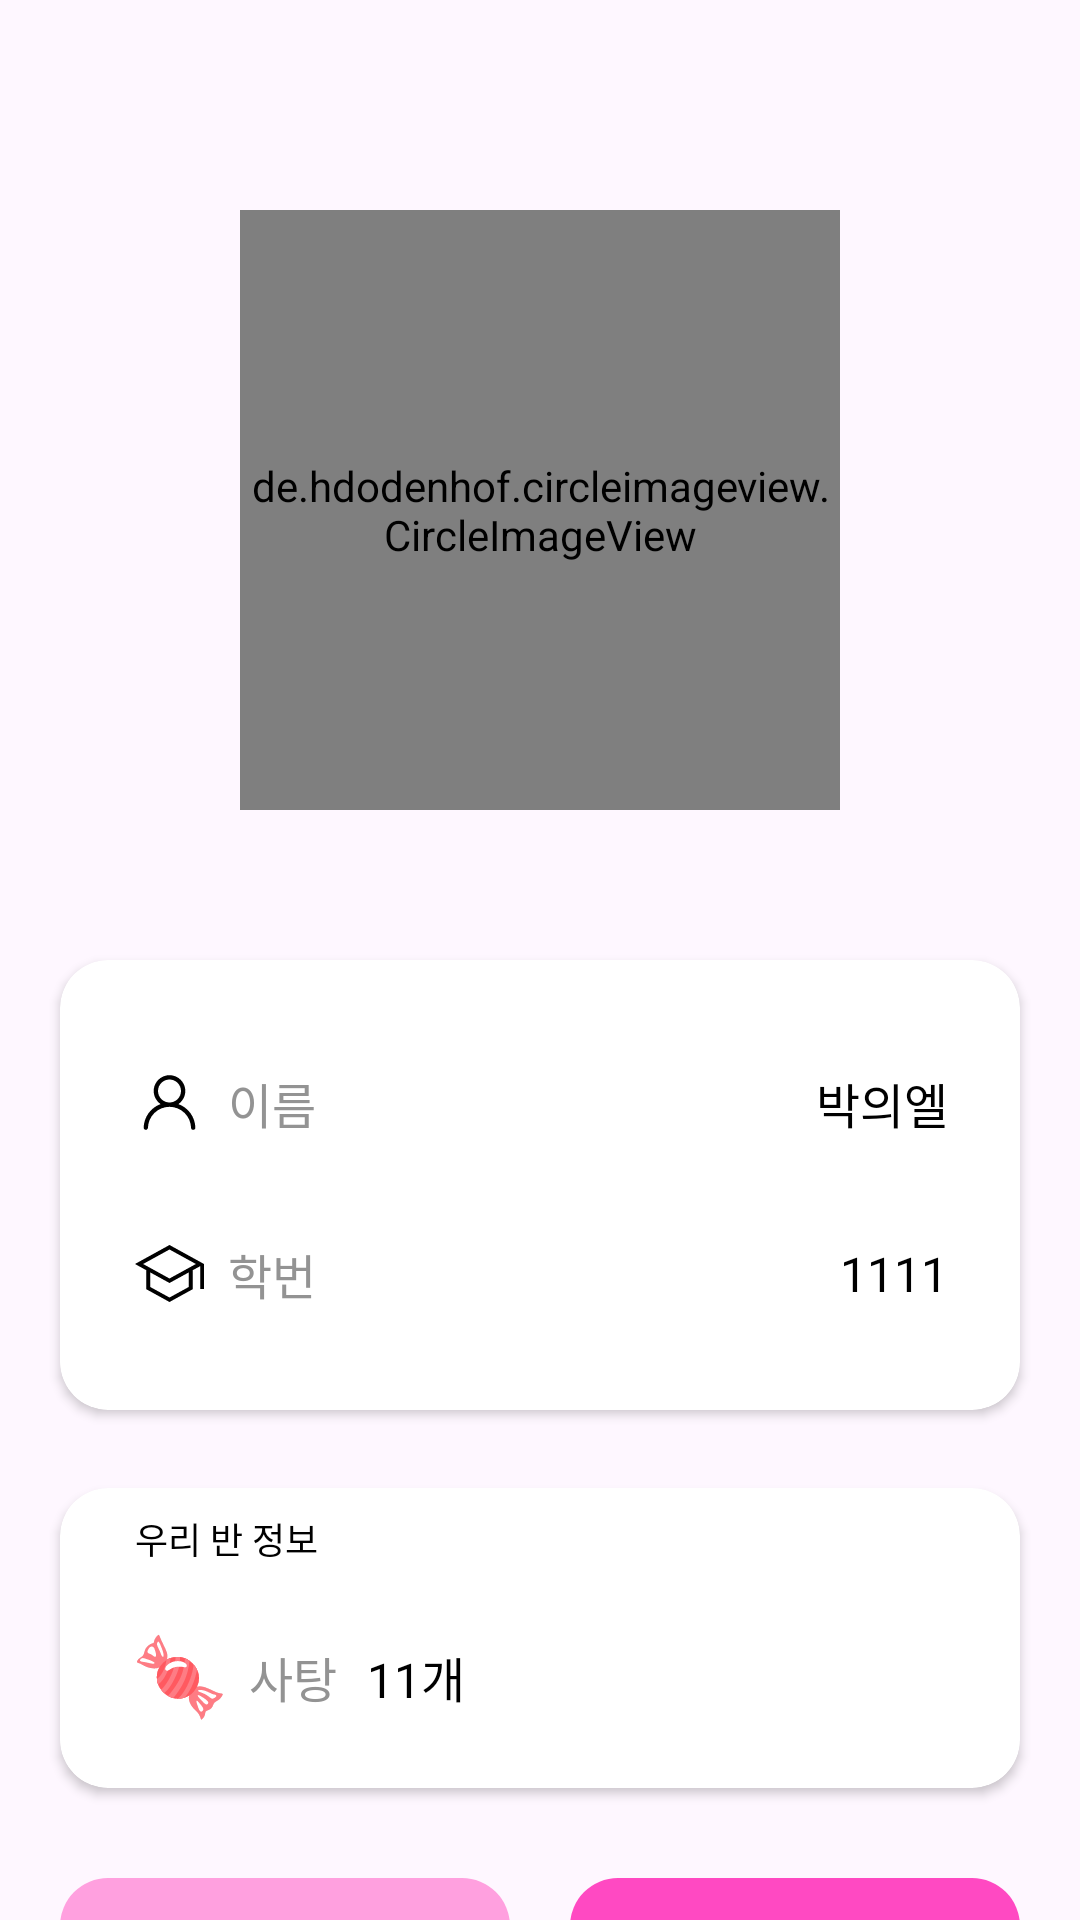

Icon bounding boxes for this 1080px x 1920px phone screenshot, format (x1, y1, x2, y2):
candy: (137, 1635, 223, 1720)
page grade: (135, 1245, 204, 1302)
page person: (143, 1075, 196, 1130)
